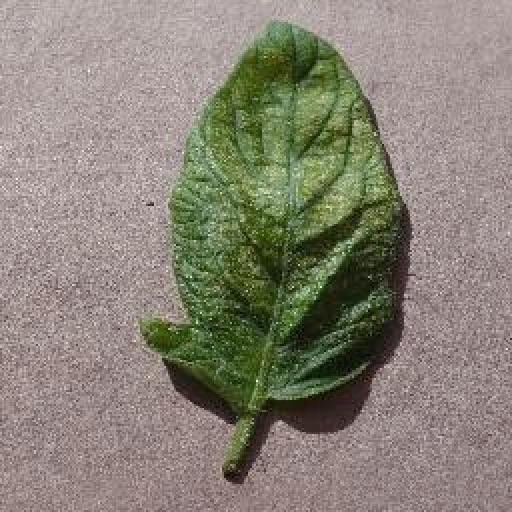disease_tomato: (138, 22, 406, 406)
